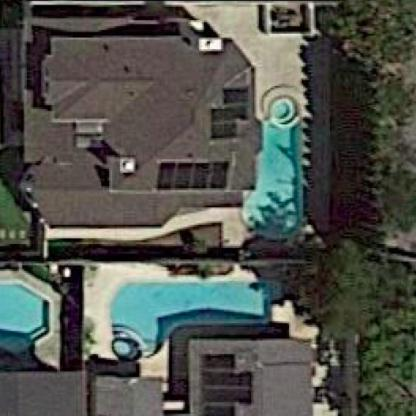solar_panel: (196, 349, 268, 416), (158, 151, 242, 196), (212, 77, 250, 148)
swimming_pool: (100, 264, 301, 356), (250, 92, 316, 246), (1, 256, 64, 364)
